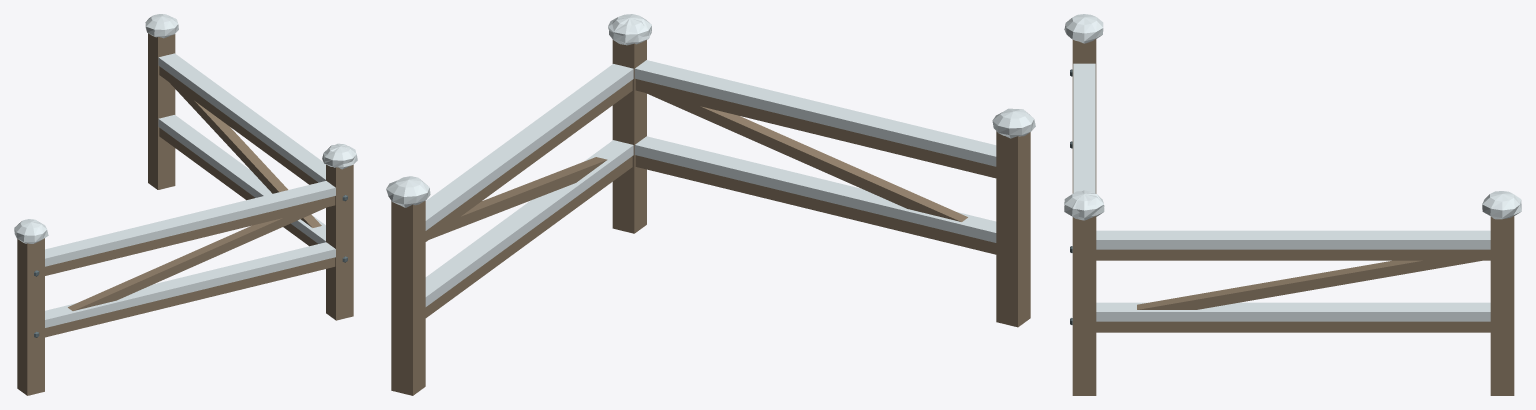
Rendered from PROP_02_FenceCornerSnowy.glb.
3 renders of one model, left to right at view 1: azimuth 30°, elevation 25°; view 2: azimuth 150°, elevation 25°; view 3: azimuth 270°, elevation 25°, orthographic. The views are drawn at different scales.
Parts seen in each view (by area): view 1: PROP_02_FenceCornerSnowy; view 2: PROP_02_FenceCornerSnowy; view 3: PROP_02_FenceCornerSnowy.
Part boxes in pixels (<box>): PROP_02_FenceCornerSnowy: <box>14,14,357,395</box>; PROP_02_FenceCornerSnowy: <box>386,14,1035,395</box>; PROP_02_FenceCornerSnowy: <box>1064,14,1521,395</box>.
Bounding box in the file's own units: 3.29 × 1.56 × 3.28.
